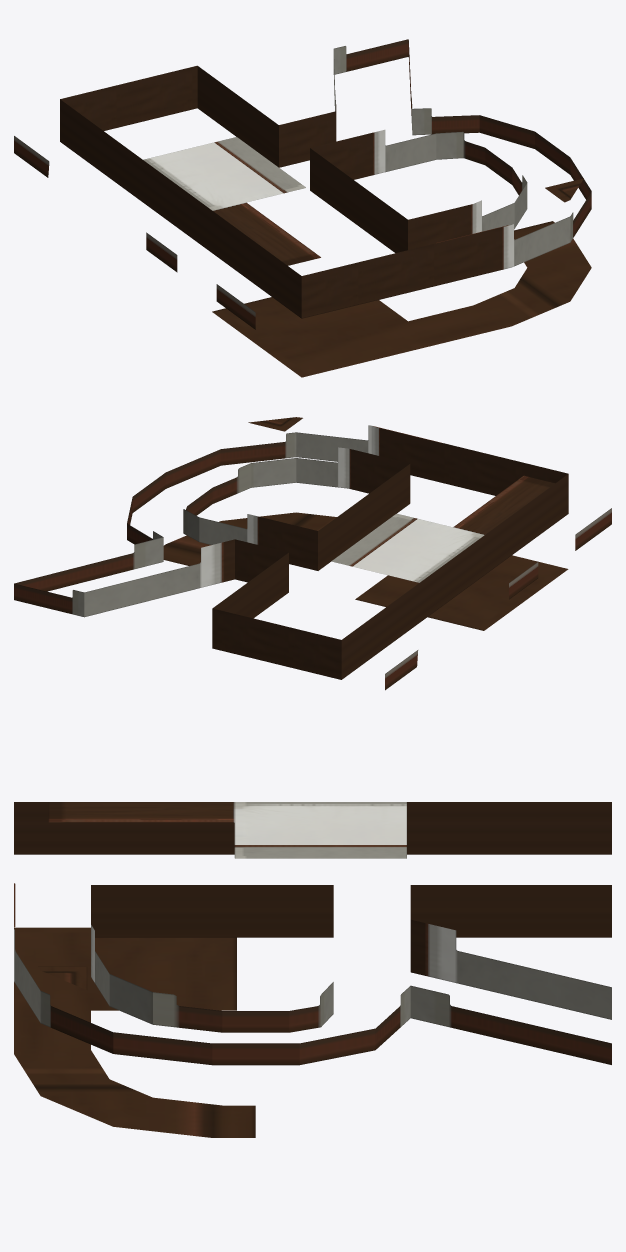
3 views of the same model, one above another, from view 1: azimuth 30°, elevation 25°; view 2: azimuth 150°, elevation 25°; view 3: azimuth 270°, elevation 25° (orthographic). The views are drawn at different scales.
Size of the model in its own units: 0.9402 by 0.3 by 0.8632.
